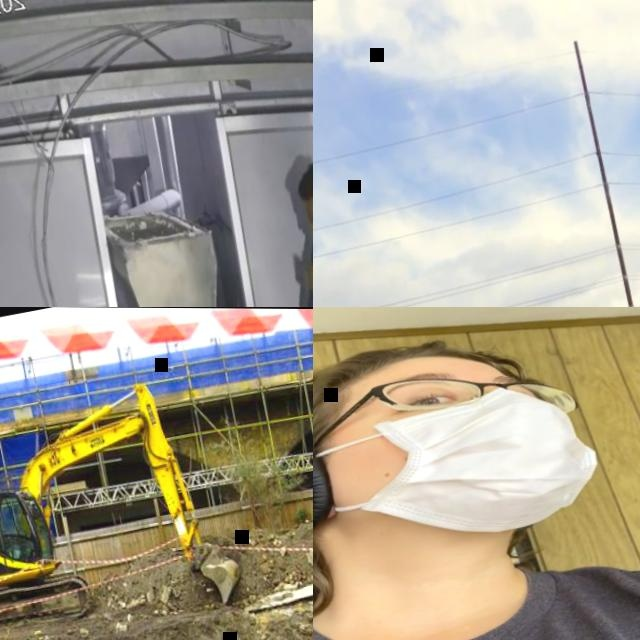Mask: (313, 365, 613, 562)
NO-Hardhat: (313, 321, 519, 455), (293, 163, 313, 210)
NO-Safety Vest: (313, 532, 640, 640)
Person: (313, 307, 640, 640)
machinery: (0, 365, 244, 640)
